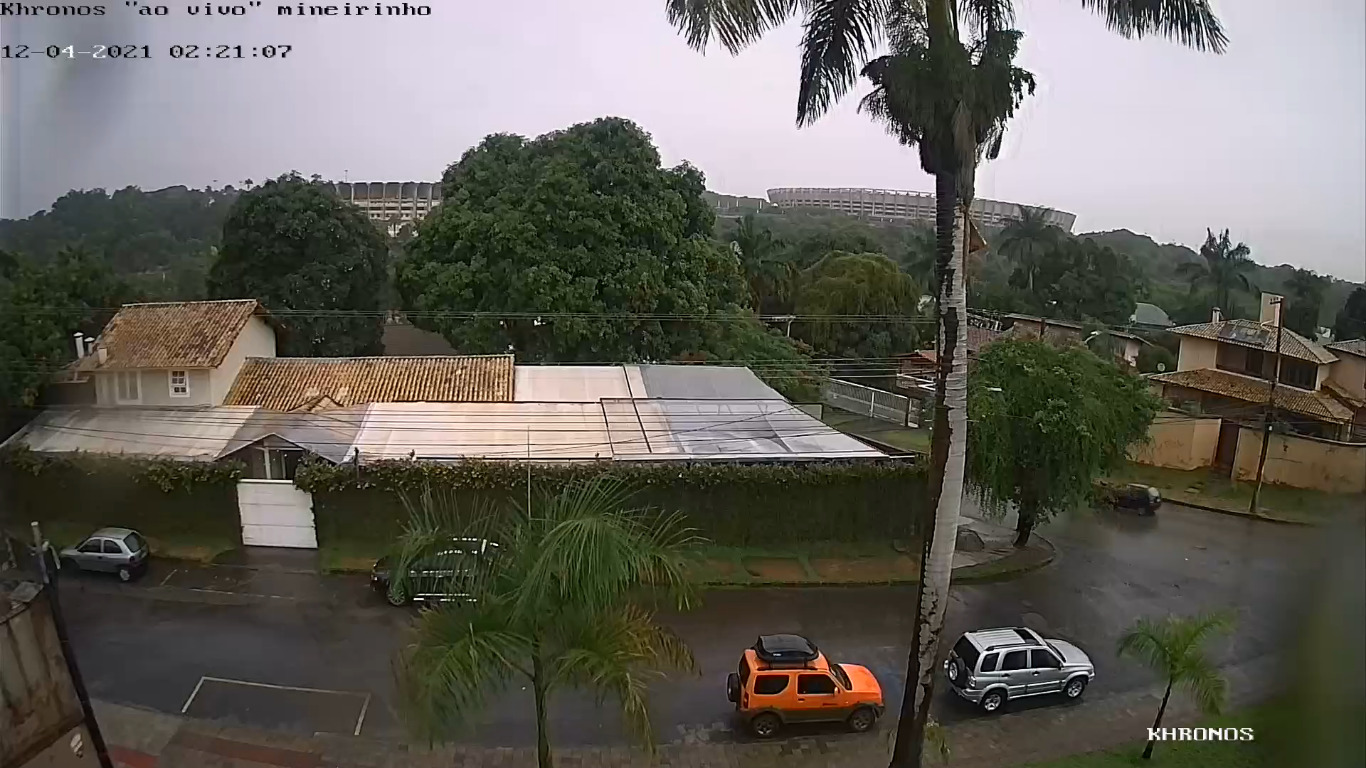car: (720, 633, 884, 739), (941, 623, 1095, 715), (59, 524, 153, 589)
